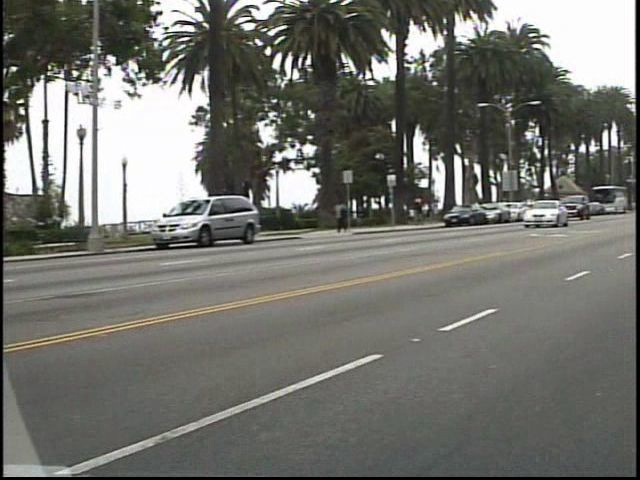person: (339, 198, 361, 237), (419, 191, 438, 226)
